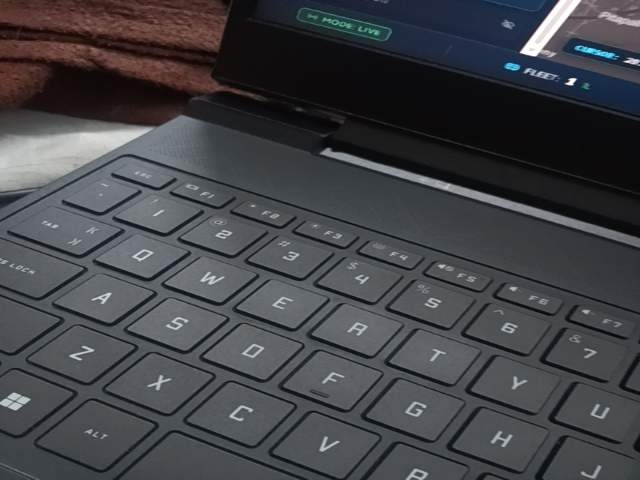pothole: (102, 403, 305, 480)
